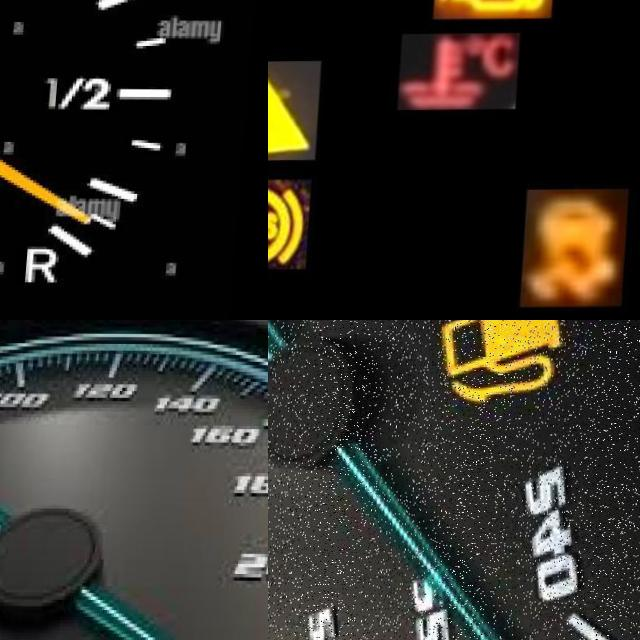Central Warning lamp: (268, 59, 328, 160)
Engine cooling system: (403, 31, 527, 109)
